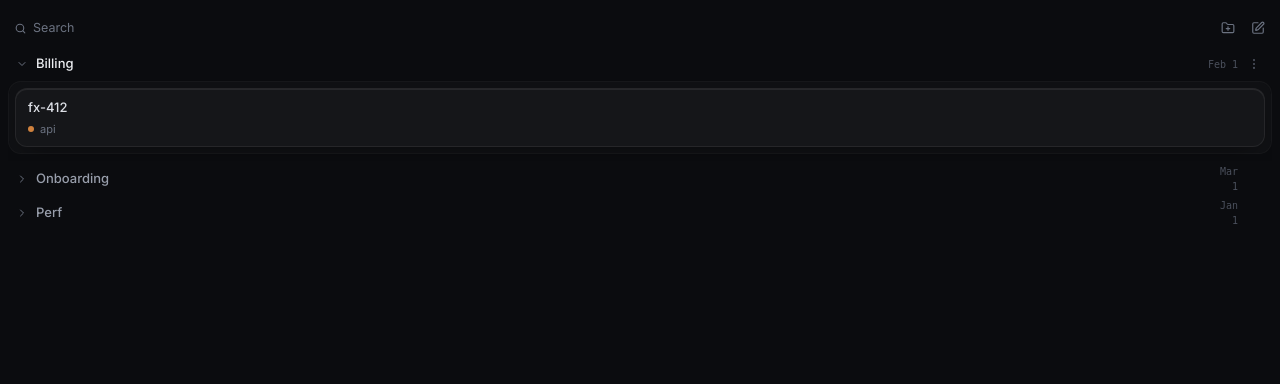
Test: SidebarBody: the Focus accordion › the chevron expands a Focus and does not activate it; several can be expanded at once
Click the button named "Show Perf" at (22, 212), box [14,202,30,222]
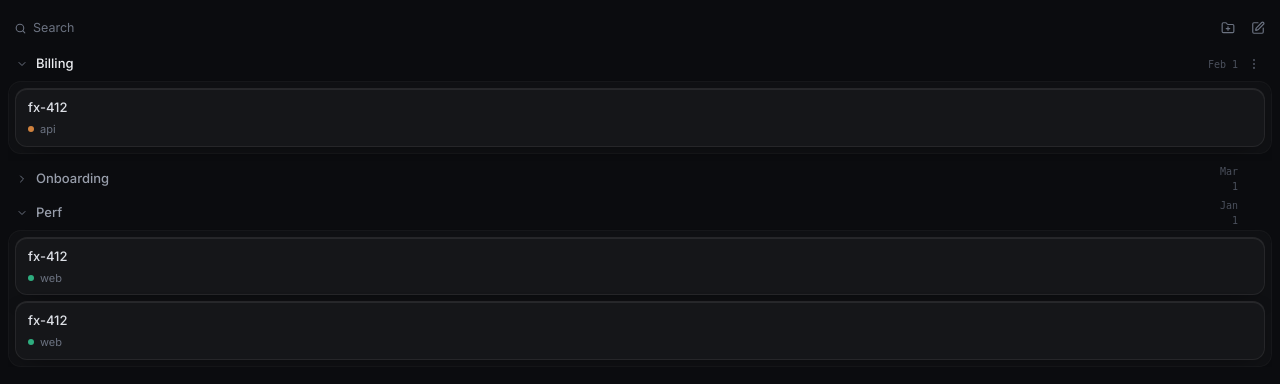
expect the element with test id "focus-group" showing "fx-412 api" is shown: met, box [9,82,1271,152]
expect the number of buttons "fx-412" is 2: met, box [28,246,1256,266]; [28,310,1256,330]
expect the number of elements with test id "focus-group" is 2: met, box [9,82,1271,152]; [9,230,1271,366]
Click the button named "Fold Perf" at (22, 212), box [14,202,30,222]
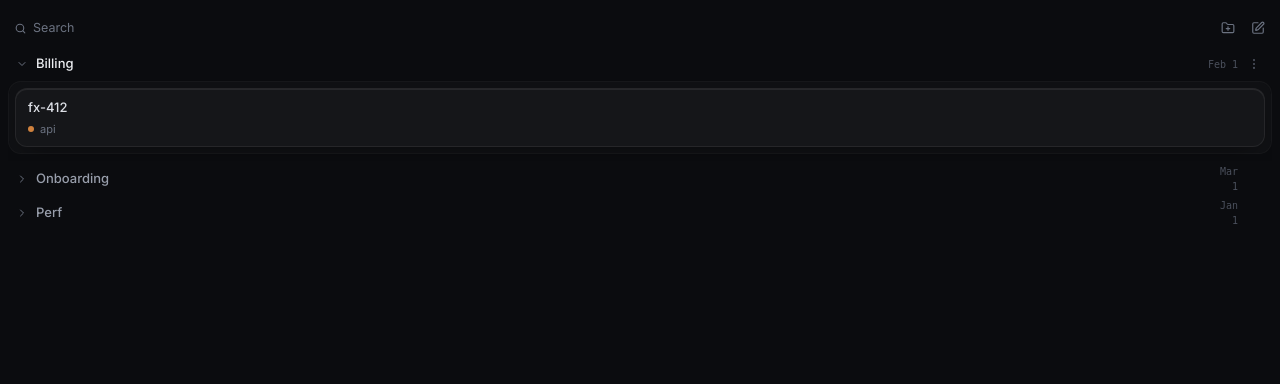
expect the text "fx-412 web fx-412 web" is gone: met
